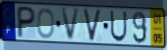9: (131, 10, 148, 45)
O: (37, 7, 56, 40)
P: (16, 5, 37, 39)
U: (109, 10, 128, 43)
V: (60, 8, 82, 42), (82, 8, 103, 43)
